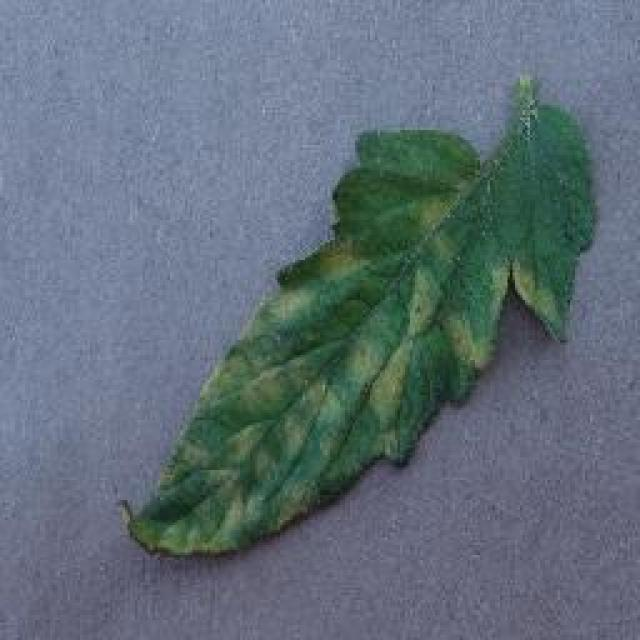Tomato___Leaf_Mold: (128, 78, 592, 552)
